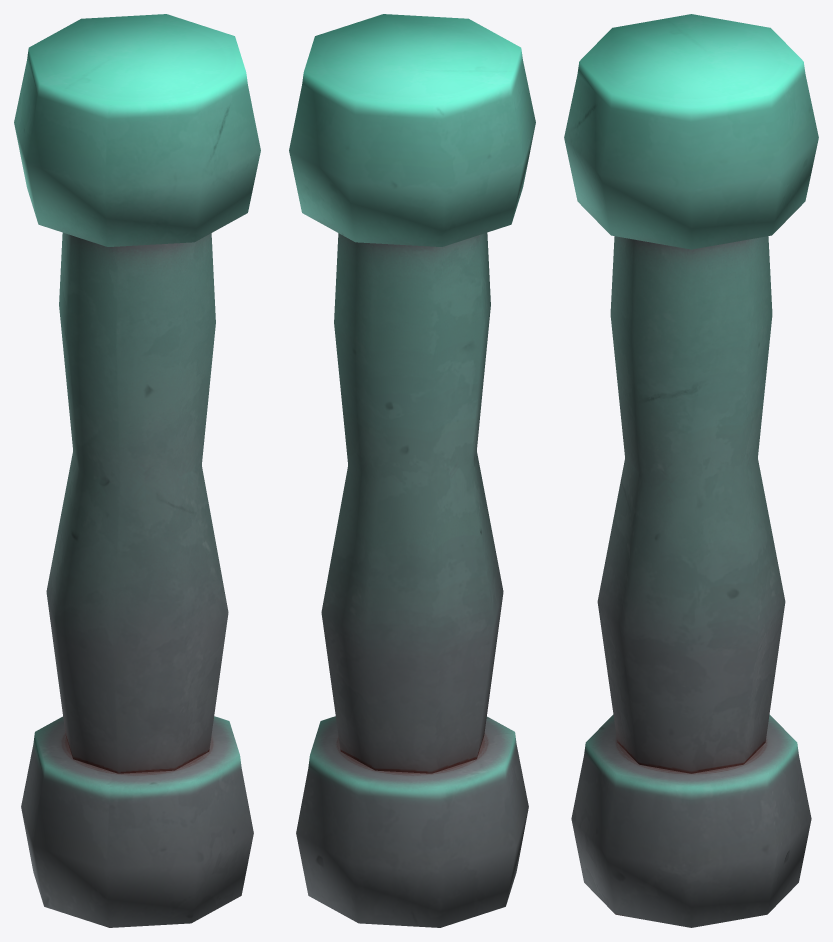
File: stalp 2 .fbx
The picture shows the model from 3 angles, left to right: view 1: azimuth 30°, elevation 25°; view 2: azimuth 150°, elevation 25°; view 3: azimuth 270°, elevation 25°; orthographic projection.
Parts seen in each view (by area): view 1: Cylinder.003; view 2: Cylinder.003; view 3: Cylinder.003.
Boxes of the visible parts, x1=… form: Cylinder.003: x1=14, y1=14, x2=260, y2=927; Cylinder.003: x1=289, y1=14, x2=535, y2=927; Cylinder.003: x1=564, y1=14, x2=818, y2=927.
Size of the model in its own units: 73.87 by 263 by 73.87.
